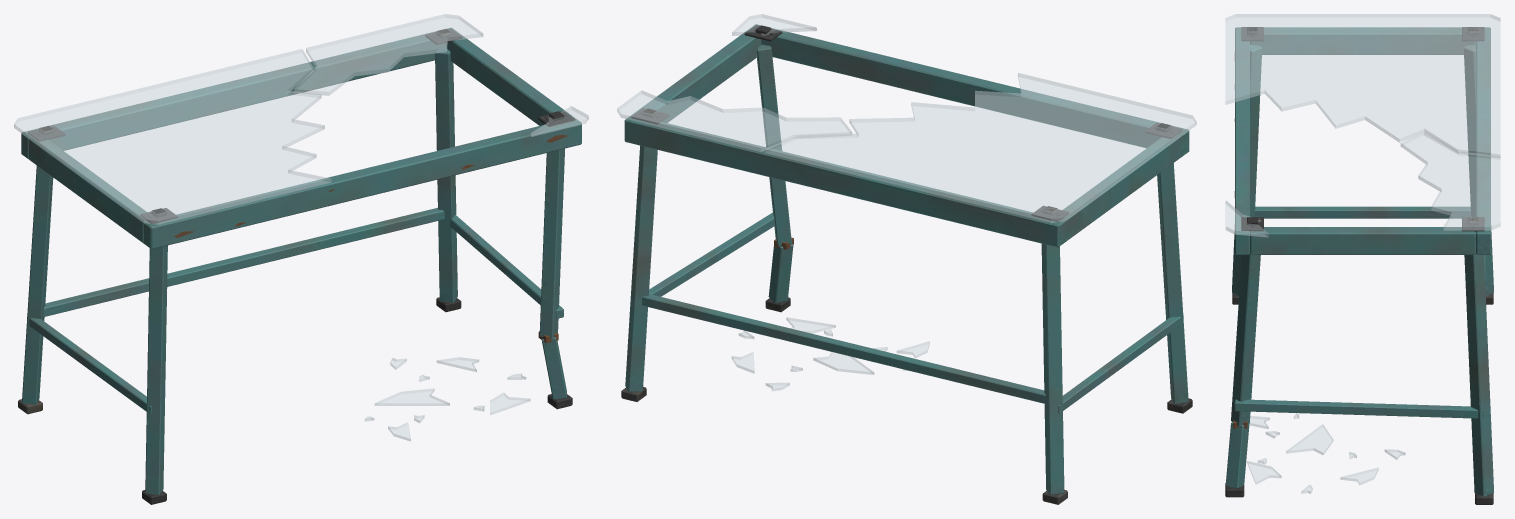
Rendered from BR31_broken_glass_table.glb.
The picture shows the model from 3 angles, left to right: view 1: azimuth 30°, elevation 25°; view 2: azimuth 150°, elevation 25°; view 3: azimuth 270°, elevation 25°; orthographic projection. The views are drawn at different scales.
Parts seen in each view (by area): view 1: Long apron rail; view 2: Long apron rail; view 3: Long apron rail.
Part boxes in pixels (x1,y1,x2,y2): Long apron rail: [14, 14, 588, 504]; Long apron rail: [617, 14, 1196, 504]; Long apron rail: [1225, 14, 1500, 504].
Bounding box in the file's own units: 1.2 × 0.738 × 0.656.
Materials: 5 (4 with a texture image).
